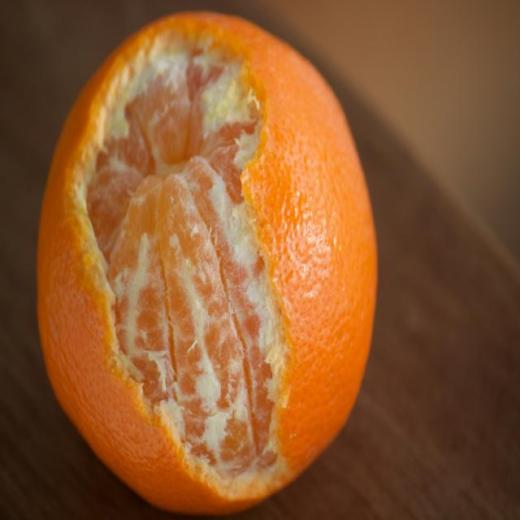Grape: (35, 10, 380, 516)
